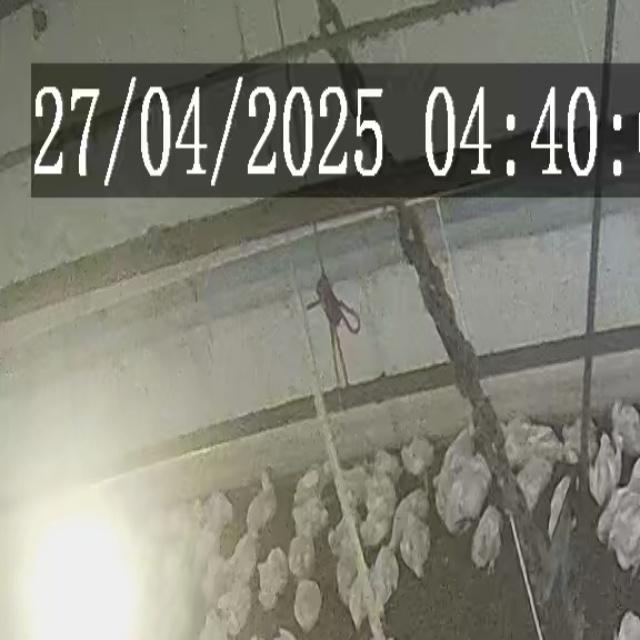chicken: (597, 465, 640, 540), (608, 498, 640, 578), (244, 466, 279, 532), (469, 508, 502, 574), (457, 457, 490, 522), (390, 492, 429, 546), (256, 547, 287, 612), (516, 461, 552, 512), (374, 546, 401, 610), (404, 512, 429, 580), (610, 398, 640, 454), (332, 540, 358, 604), (590, 436, 615, 499), (291, 498, 329, 538), (293, 581, 322, 632), (401, 436, 433, 480), (564, 418, 596, 461), (349, 574, 371, 632), (287, 534, 316, 576), (287, 534, 316, 576), (616, 612, 640, 640)
